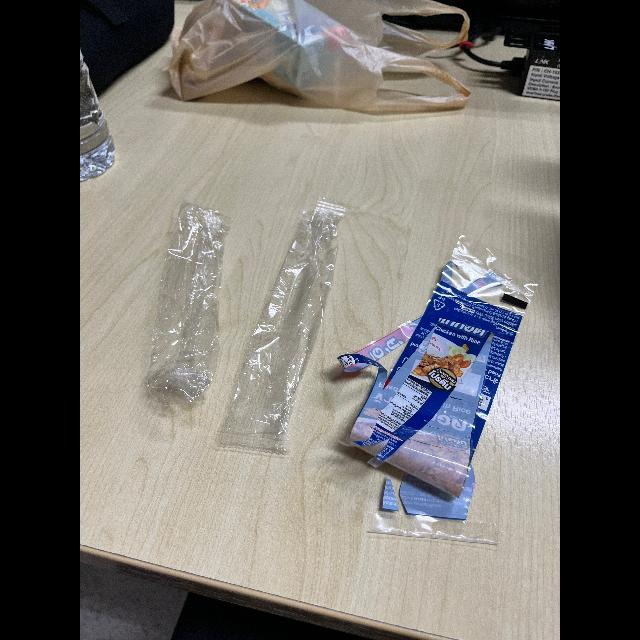scrap_plastic: (337, 224, 549, 564), (223, 182, 359, 468), (141, 188, 239, 410)
